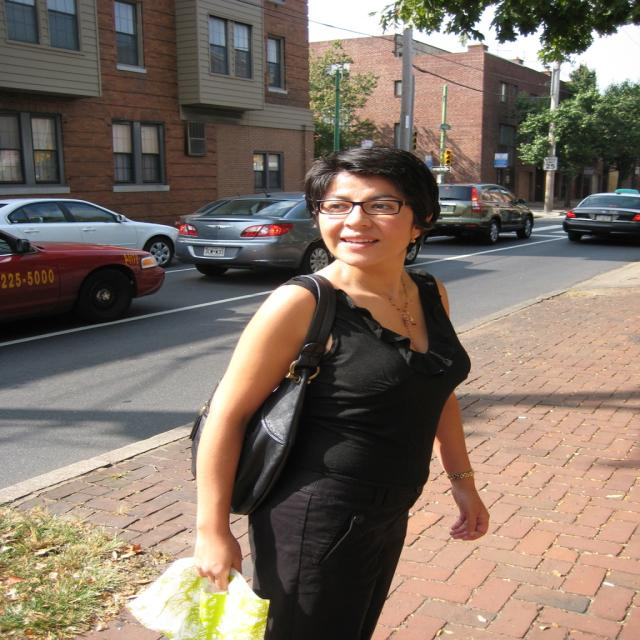car: (441, 177, 531, 243)
